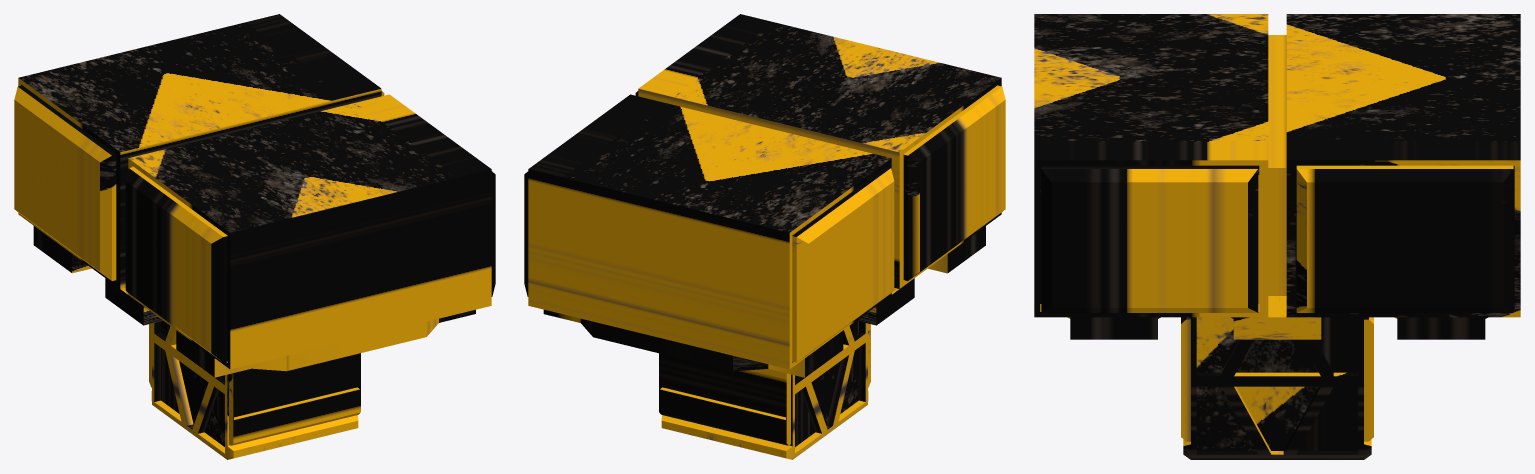
Rendered from cargo.fbx.
3 renders of one model, left to right at view 1: azimuth 30°, elevation 25°; view 2: azimuth 150°, elevation 25°; view 3: azimuth 270°, elevation 25°, orthographic. The views are drawn at different scales.
Parts seen in each view (by area): view 1: pCube92, pCube88, pCube90, pCube89, pCube91; view 2: pCube92, pCube88, pCube91, pCube89, pCube90; view 3: pCube92, pCube88, pCube89, pCube91, pCube90.
Part boxes in pixels (x1,y1,x2,y2): pCube92: [14, 14, 495, 369]; pCube88: [149, 320, 360, 459]; pCube90: [176, 309, 475, 377]; pCube89: [105, 278, 162, 325]; pCube91: [33, 226, 91, 273]; pCube92: [524, 14, 1005, 369]; pCube88: [659, 320, 870, 459]; pCube91: [543, 309, 843, 377]; pCube89: [857, 278, 914, 325]; pCube90: [928, 226, 985, 273]; pCube92: [1034, 14, 1520, 317]; pCube88: [1181, 317, 1373, 459]; pCube89: [1231, 296, 1323, 339]; pCube91: [1394, 317, 1487, 339]; pCube90: [1067, 317, 1160, 339].
Size of the model in its own units: 8.5 by 8.37 by 10.97.
